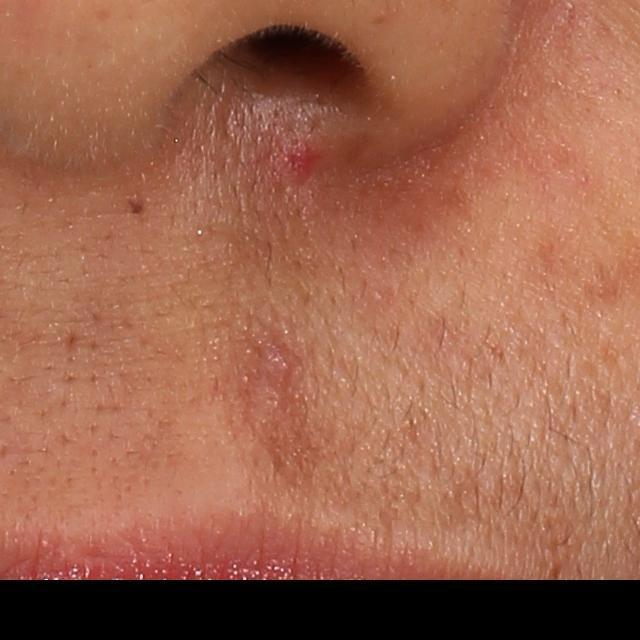nevus: (124, 195, 148, 219)
papule: (277, 138, 319, 178)
